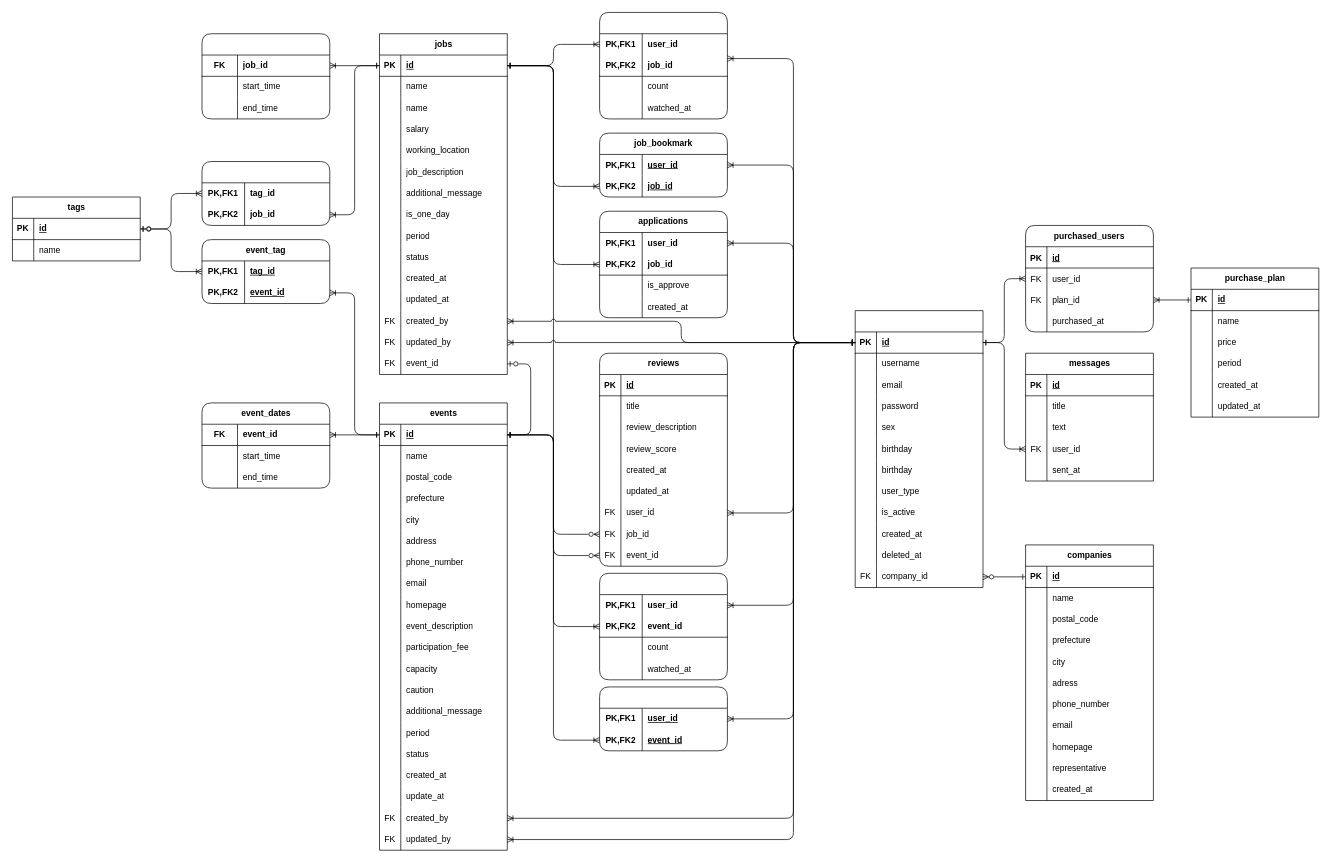
The diagram is 1331 pixels wide and 863 high, and some of its shapes have lost their labels. The shapes that lost their labels are listed below. From the top down, each one's box as (x1, y1, x2, y2) in pixels, then its label:
(201, 33, 330, 119): working_times
(599, 12, 727, 119): job_watched
(201, 161, 330, 225): job_tag
(854, 310, 983, 588): users
(599, 573, 727, 680): event_watched
(599, 686, 727, 751): event_bookmark
